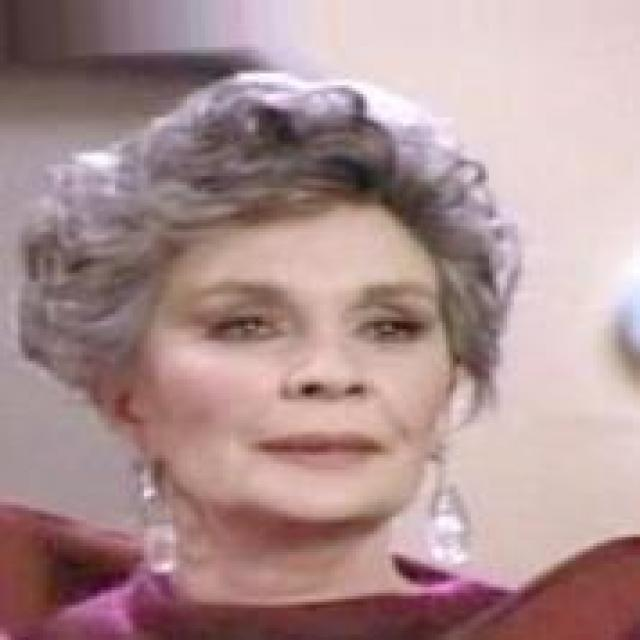nomask: (140, 124, 468, 532)
